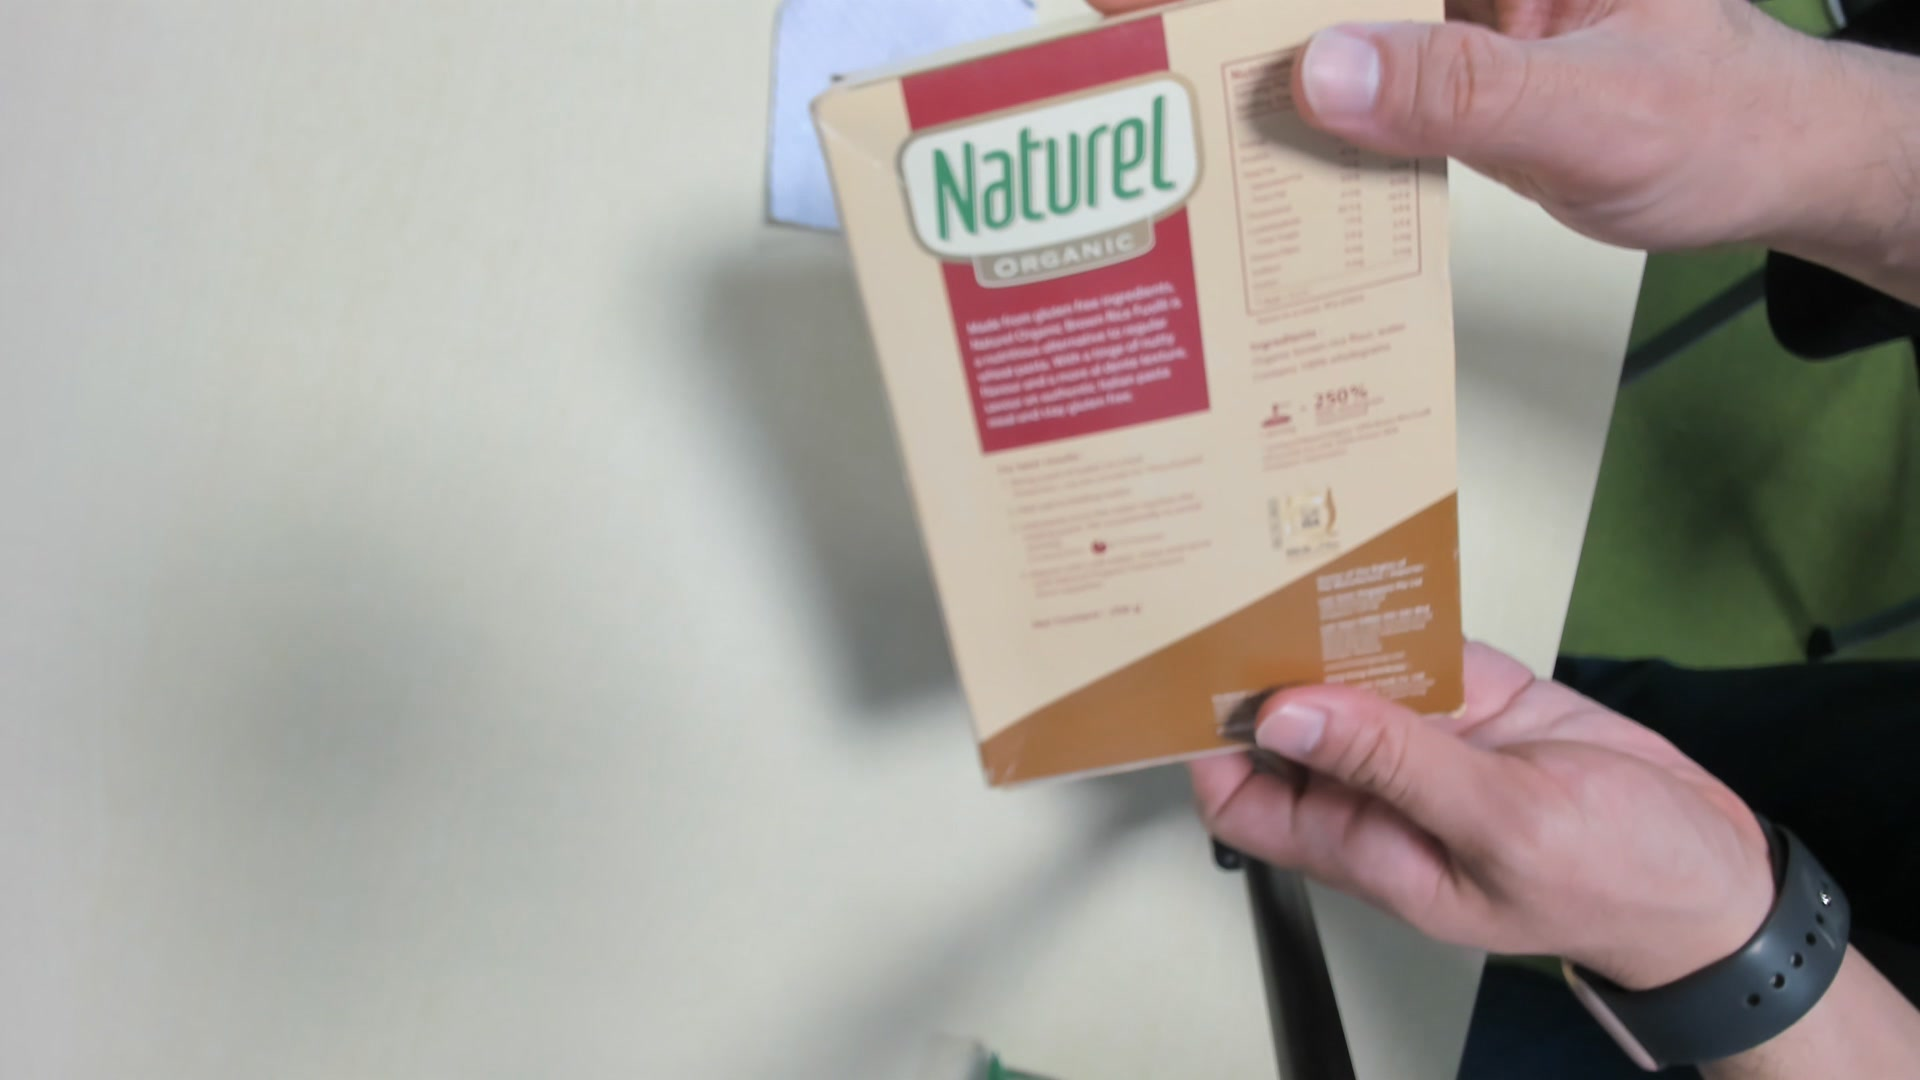Pasta_200-299g_Halal_Healthy: (815, 7, 1466, 789)
